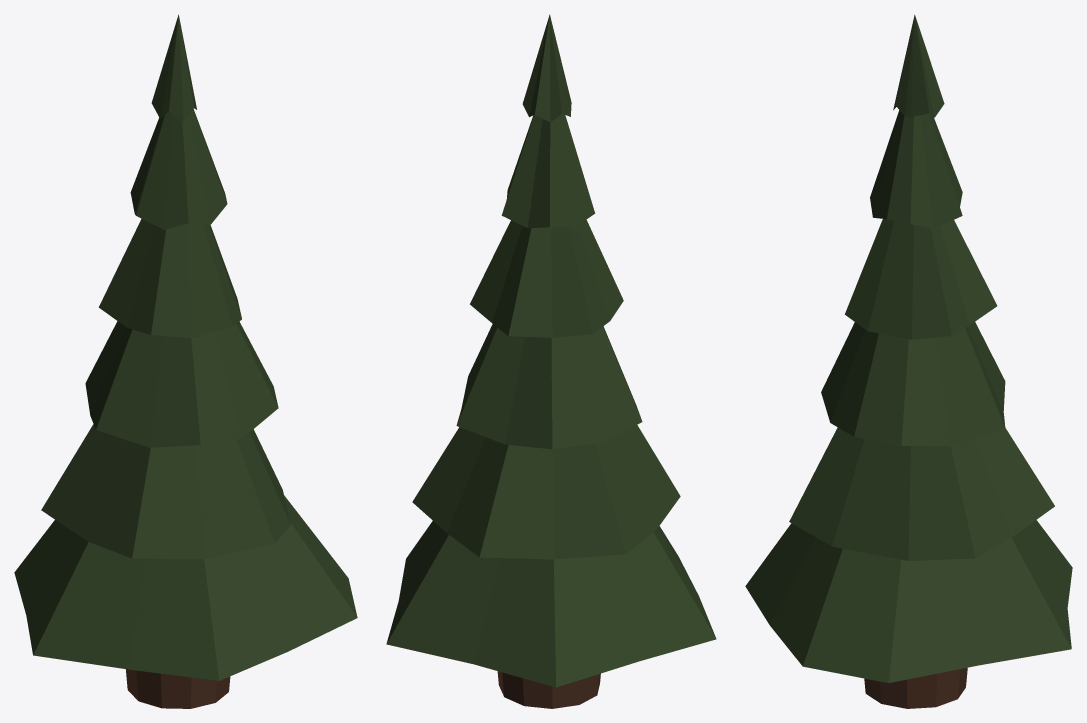
Rendered from DarkPine.fbx.
3 renders of one model, left to right at view 1: azimuth 30°, elevation 25°; view 2: azimuth 150°, elevation 25°; view 3: azimuth 270°, elevation 25°, orthographic.
Parts seen in each view (by area): view 1: Cylinder.003; view 2: Cylinder.003; view 3: Cylinder.003.
Boxes of the visible parts, bbox=[...] form: Cylinder.003: bbox=[14, 14, 357, 708]; Cylinder.003: bbox=[386, 14, 716, 708]; Cylinder.003: bbox=[745, 14, 1072, 708].
Size of the model in its own units: 575 by 1182 by 521.
